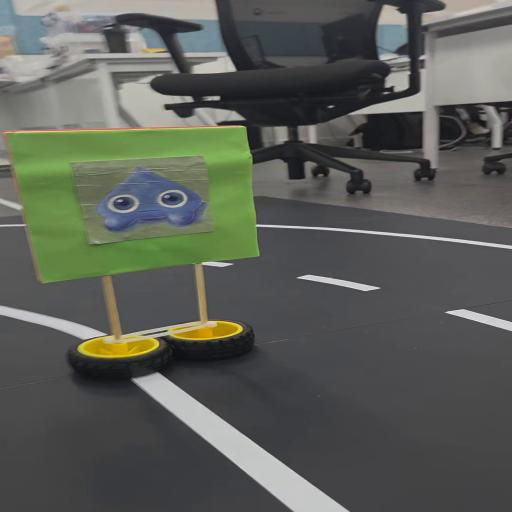Sign_B: (3, 128, 294, 389)
